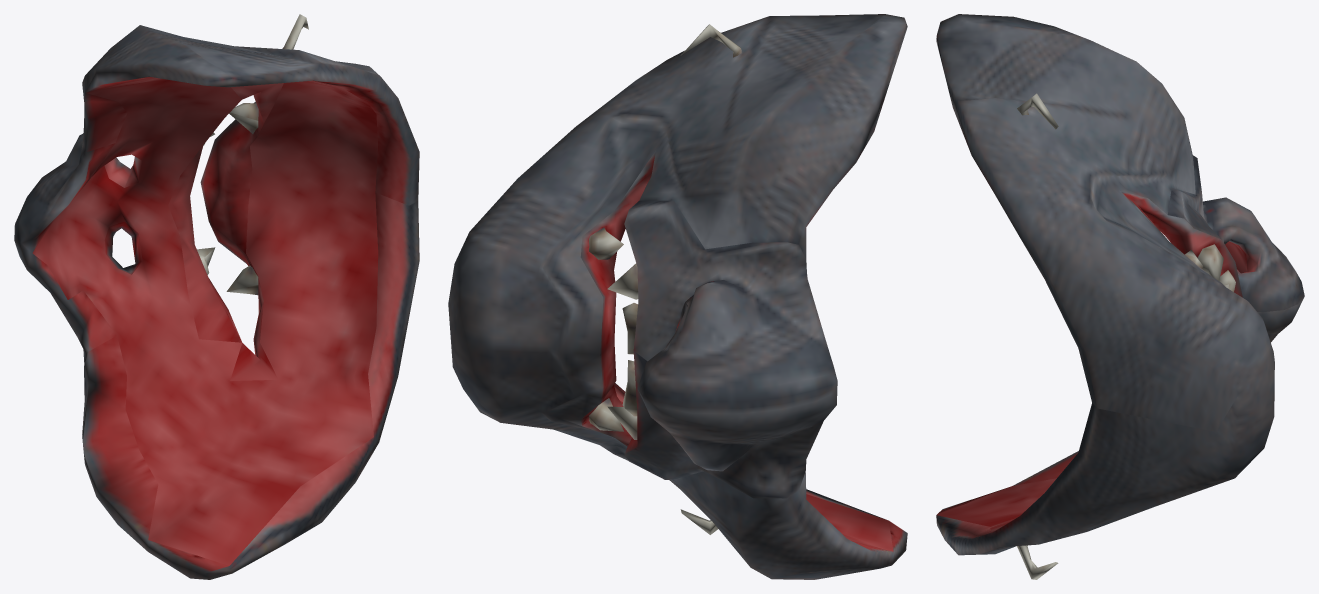
The model's file is F_SakaiMask.fbx.
3 renders of one model, left to right at view 1: azimuth 30°, elevation 25°; view 2: azimuth 150°, elevation 25°; view 3: azimuth 270°, elevation 25°, orthographic. The views are drawn at different scales.
Visible parts, largest first — view 1: SakaiMask; view 2: SakaiMask; view 3: SakaiMask.
Boxes of the visible parts, bbox=[...] form: SakaiMask: bbox=[14, 14, 419, 579]; SakaiMask: bbox=[448, 14, 907, 579]; SakaiMask: bbox=[936, 14, 1304, 579].
Size of the model in its own units: 0.0745 by 0.1023 by 0.0678.
